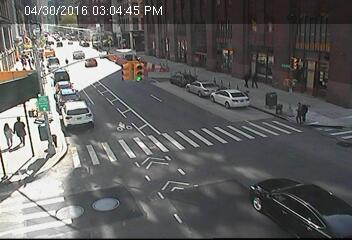neg: (113, 47, 147, 93), (36, 41, 69, 85), (119, 161, 148, 200), (168, 68, 196, 106), (293, 51, 318, 84), (225, 134, 249, 166), (198, 173, 215, 196), (264, 89, 281, 112), (85, 191, 99, 210)
pos: (13, 112, 37, 145), (1, 115, 18, 139), (289, 100, 305, 122), (250, 71, 264, 90), (238, 70, 252, 89), (301, 103, 314, 120)
